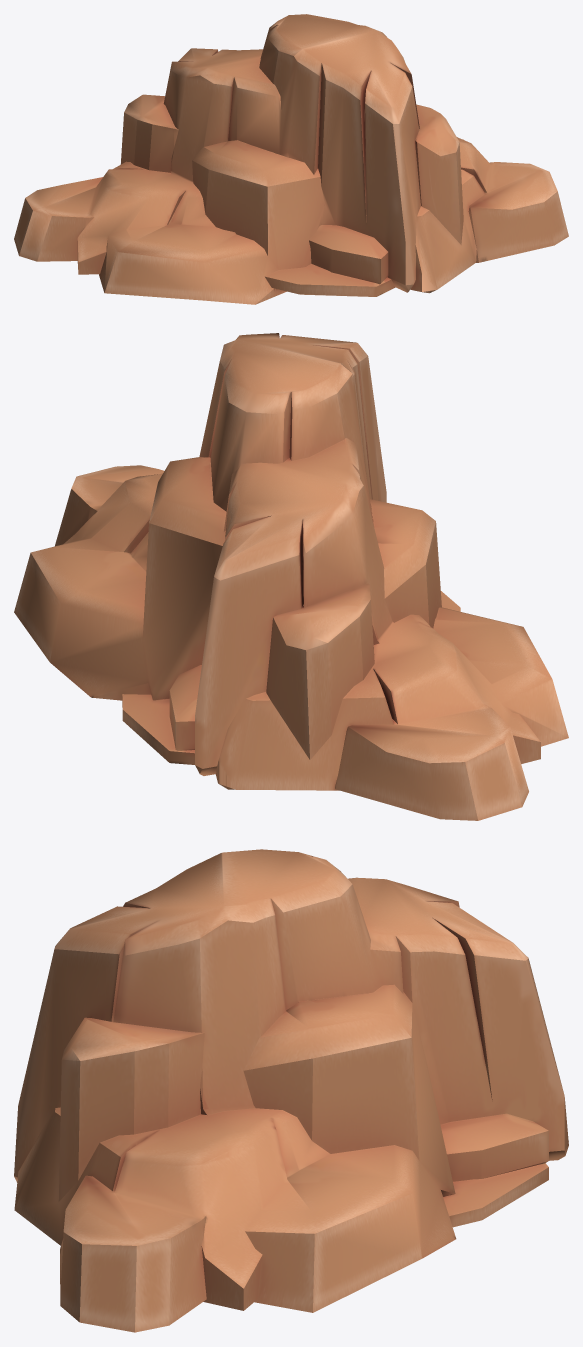
File: rock_6.glb
The picture shows the model from 3 angles, top to bottom: view 1: azimuth 30°, elevation 25°; view 2: azimuth 150°, elevation 25°; view 3: azimuth 270°, elevation 25°; orthographic projection. The views are drawn at different scales.
Visible parts, largest first — view 1: Rock_6; view 2: Rock_6; view 3: Rock_6.
Boxes of the visible parts, x1,y1,x2,y2 form: Rock_6: (14,14,568,304); Rock_6: (14,333,568,820); Rock_6: (14,849,568,1332).
Size of the model in its own units: 10.3 by 4.84 by 7.52.
1 material, 1 textured.
